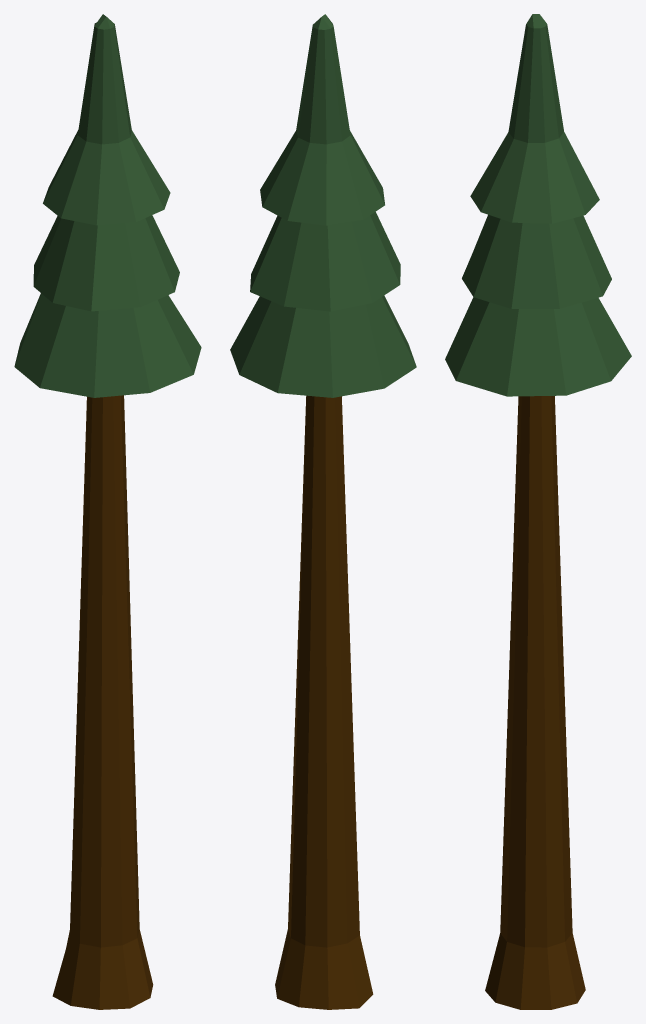
3 renders of one model, left to right at view 1: azimuth 30°, elevation 25°; view 2: azimuth 150°, elevation 25°; view 3: azimuth 270°, elevation 25°, orthographic.
Visible parts, largest first — view 1: Цилиндр.020; view 2: Цилиндр.020; view 3: Цилиндр.020.
Part boxes in pixels (x1,y1,x2,y2): Цилиндр.020: (14, 14, 201, 1009); Цилиндр.020: (230, 14, 416, 1009); Цилиндр.020: (445, 14, 631, 1009).
Size of the model in its own units: 5902 by 34111 by 5907.
